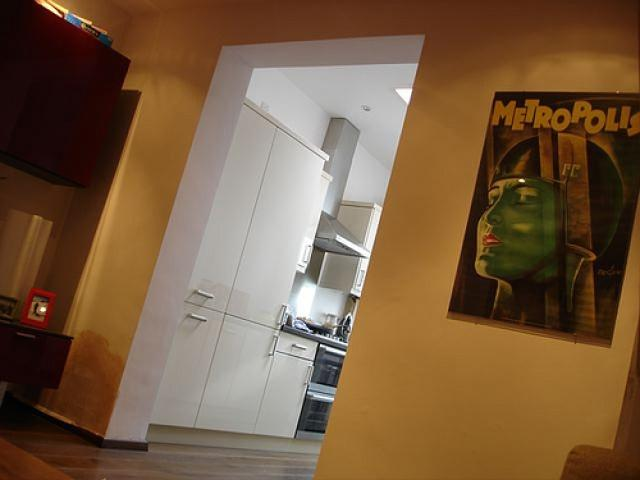Rak: (147, 99, 326, 434)
